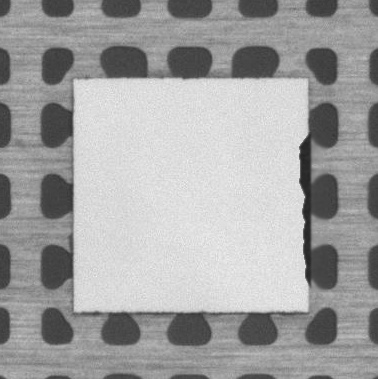DIE_BROKEN: (296, 136, 313, 288)
